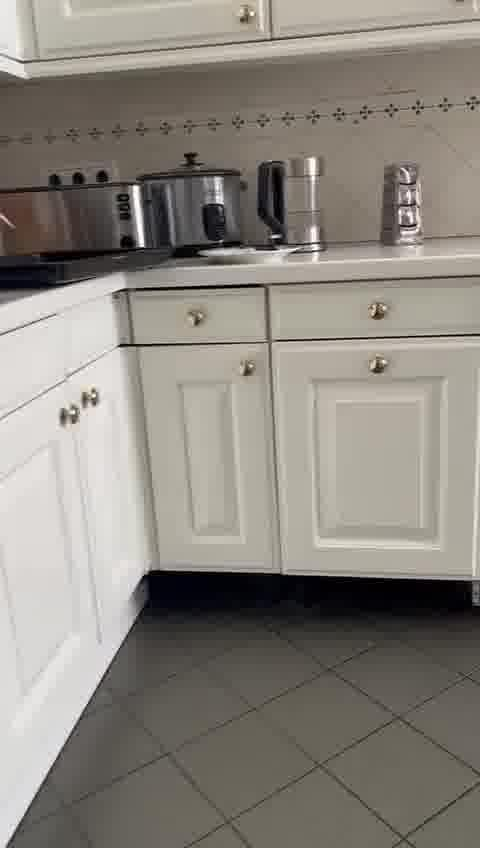cabinet_door: (274, 343, 480, 576), (149, 349, 278, 574), (5, 394, 82, 688), (85, 368, 154, 625), (274, 288, 480, 333), (121, 291, 271, 339)
handle: (54, 404, 83, 433), (78, 386, 102, 414), (366, 300, 389, 325), (235, 3, 256, 28), (235, 356, 256, 381), (368, 353, 389, 377), (188, 306, 207, 329)
